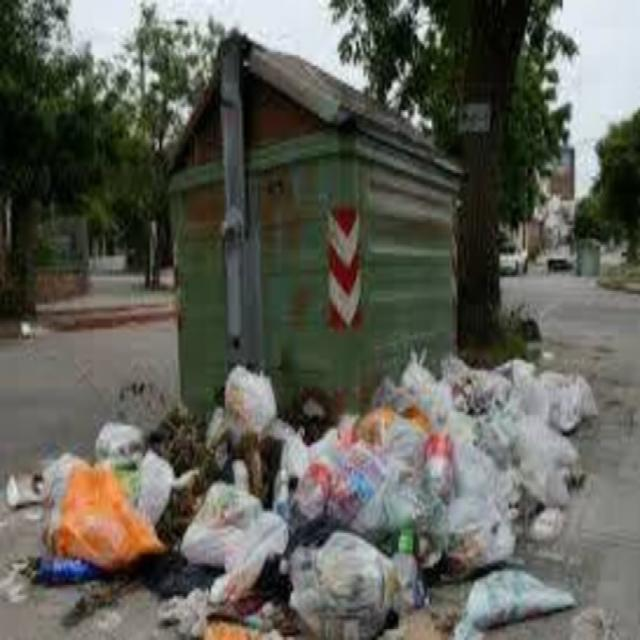garbage: (0, 346, 604, 638)
